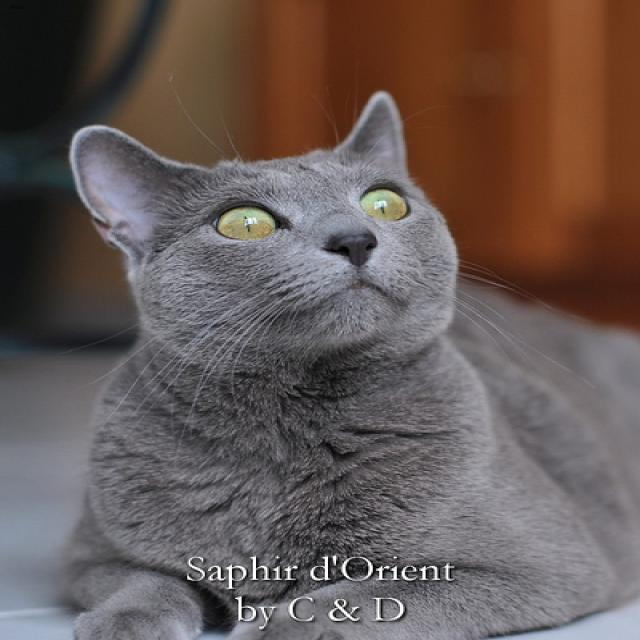Russian_Blue: (65, 86, 464, 369)
